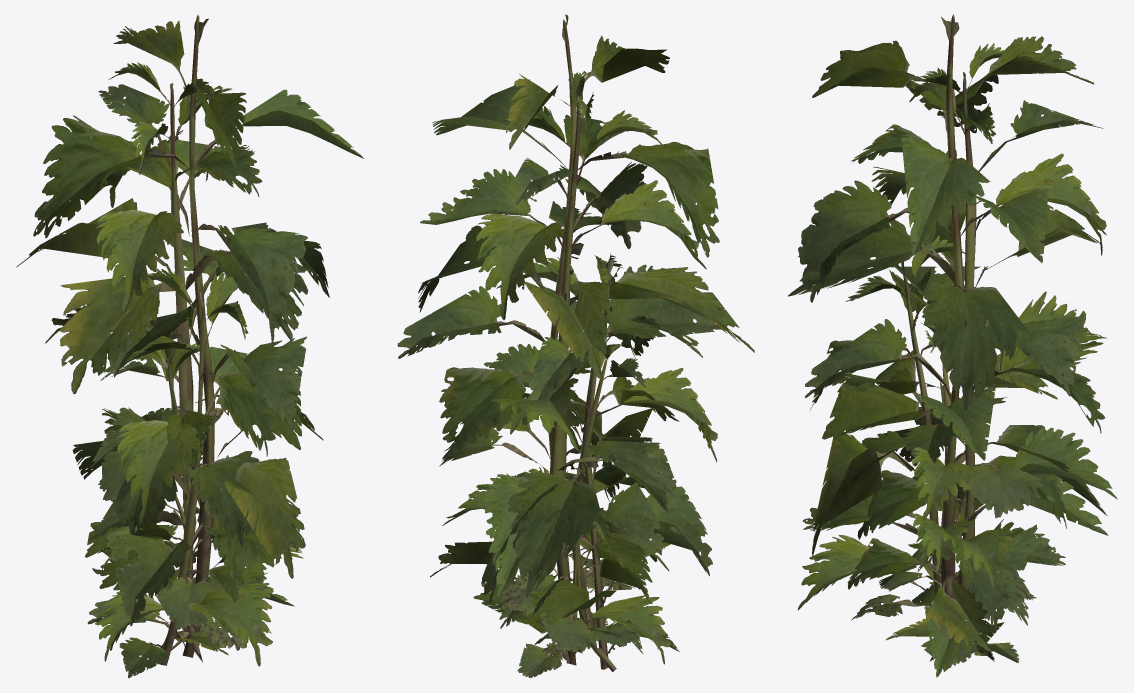
File: crop-leafy.glb
The picture shows the model from 3 angles, left to right: view 1: azimuth 30°, elevation 25°; view 2: azimuth 150°, elevation 25°; view 3: azimuth 270°, elevation 25°; orthographic projection.
Visible parts, largest first — view 1: plant_4, plant_0, plant_5, plant_1, plant_2, plant_3; view 2: plant_4, plant_5, plant_0, plant_1, plant_2, plant_3; view 3: plant_4, plant_5, plant_0, plant_1, plant_2, plant_3.
Part boxes in pixels (box(x1,y1,x2,y2)): plant_4: box(33, 14, 363, 657); plant_0: box(72, 268, 305, 678); plant_5: box(16, 62, 311, 662); plant_1: box(90, 342, 293, 647); plant_2: box(95, 478, 294, 661); plant_3: box(87, 573, 267, 655); plant_4: box(418, 14, 754, 665); plant_5: box(397, 71, 721, 653); plant_0: box(441, 253, 717, 669); plant_1: box(486, 343, 679, 671); plant_2: box(482, 467, 671, 670); plant_3: box(473, 581, 643, 677); plant_4: box(797, 14, 1108, 651); plant_5: box(788, 43, 1117, 661); plant_0: box(797, 235, 1107, 667); plant_1: box(846, 323, 1066, 637); plant_2: box(878, 484, 1028, 677); plant_3: box(886, 582, 1018, 662).
Bounding box in the file's own units: 0.1031 × 0.2037 × 0.0947.
1 material, 1 textured.
